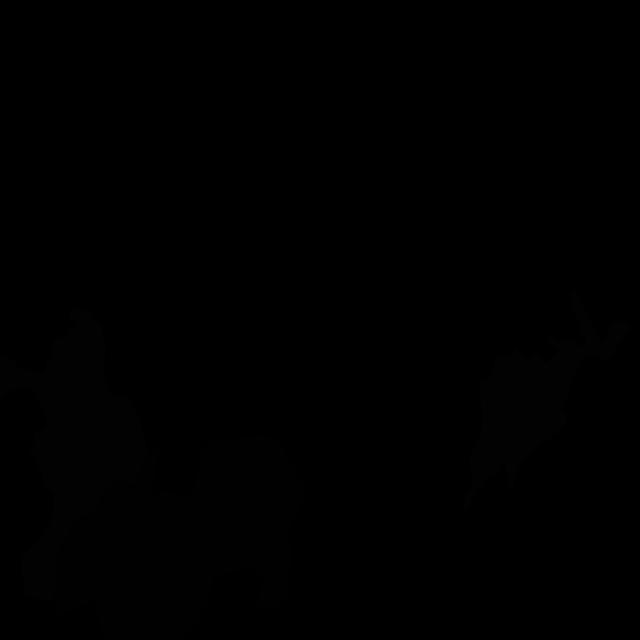cardboard: (0, 308, 149, 601), (464, 289, 633, 512)
rigid_plastic: (53, 445, 215, 640), (192, 433, 305, 610)
